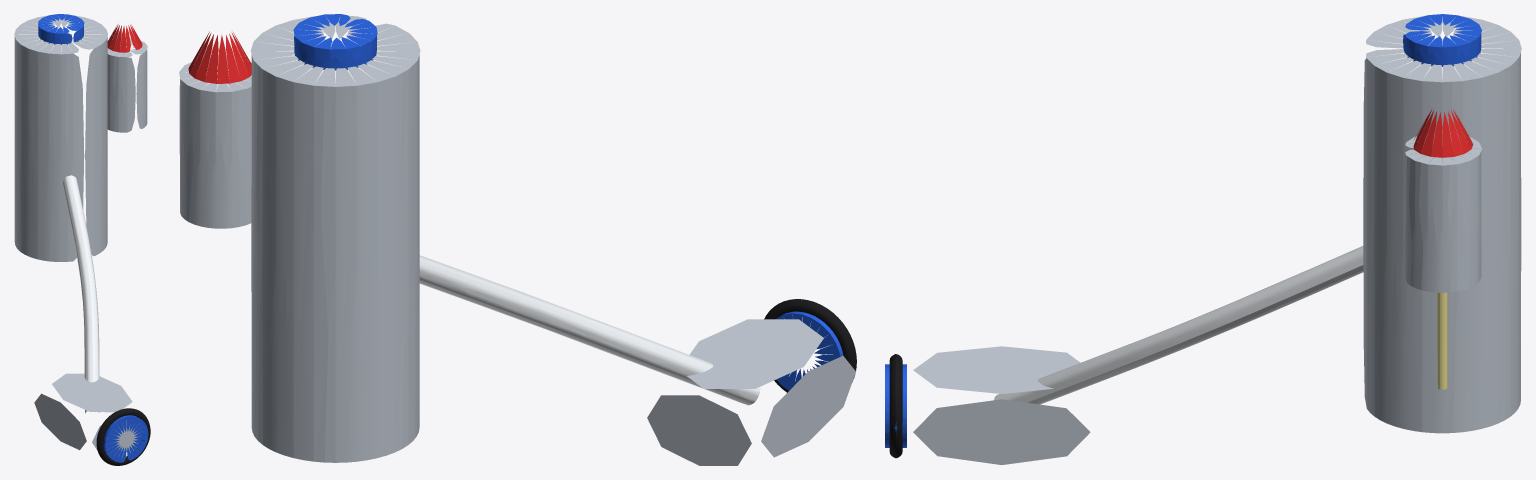
Rendered from dry_sump_system.glb.
3 renders of one model, left to right at view 1: azimuth 30°, elevation 25°; view 2: azimuth 150°, elevation 25°; view 3: azimuth 270°, elevation 25°, orthographic. The views are drawn at different scales.
Parts seen in each view (by area): view 1: Dry_Sump_Lubrication_Assembly; view 2: Dry_Sump_Lubrication_Assembly; view 3: Dry_Sump_Lubrication_Assembly.
Boxes of the visible parts, <box> form: Dry_Sump_Lubrication_Assembly: <box>14,14,150,465</box>; Dry_Sump_Lubrication_Assembly: <box>179,14,856,465</box>; Dry_Sump_Lubrication_Assembly: <box>885,14,1521,464</box>.
Bounding box in the file's own units: 0.475 × 0.6318 × 0.7225.
